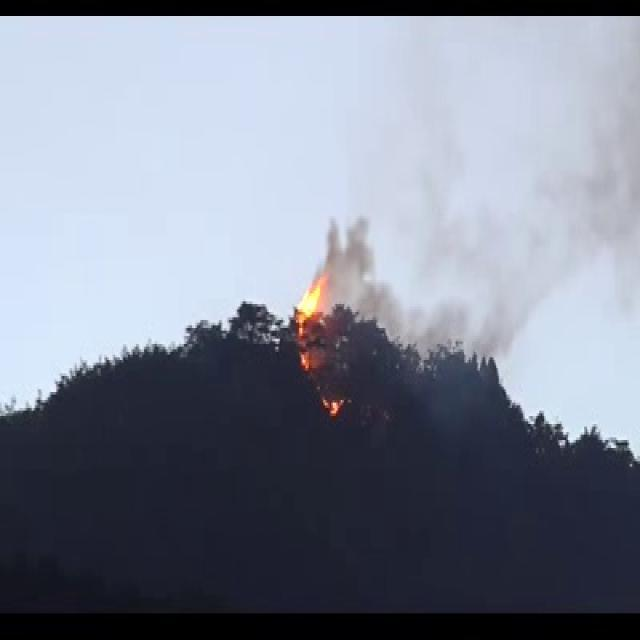Fire: (294, 280, 322, 314)
Smoke: (331, 244, 358, 306)
